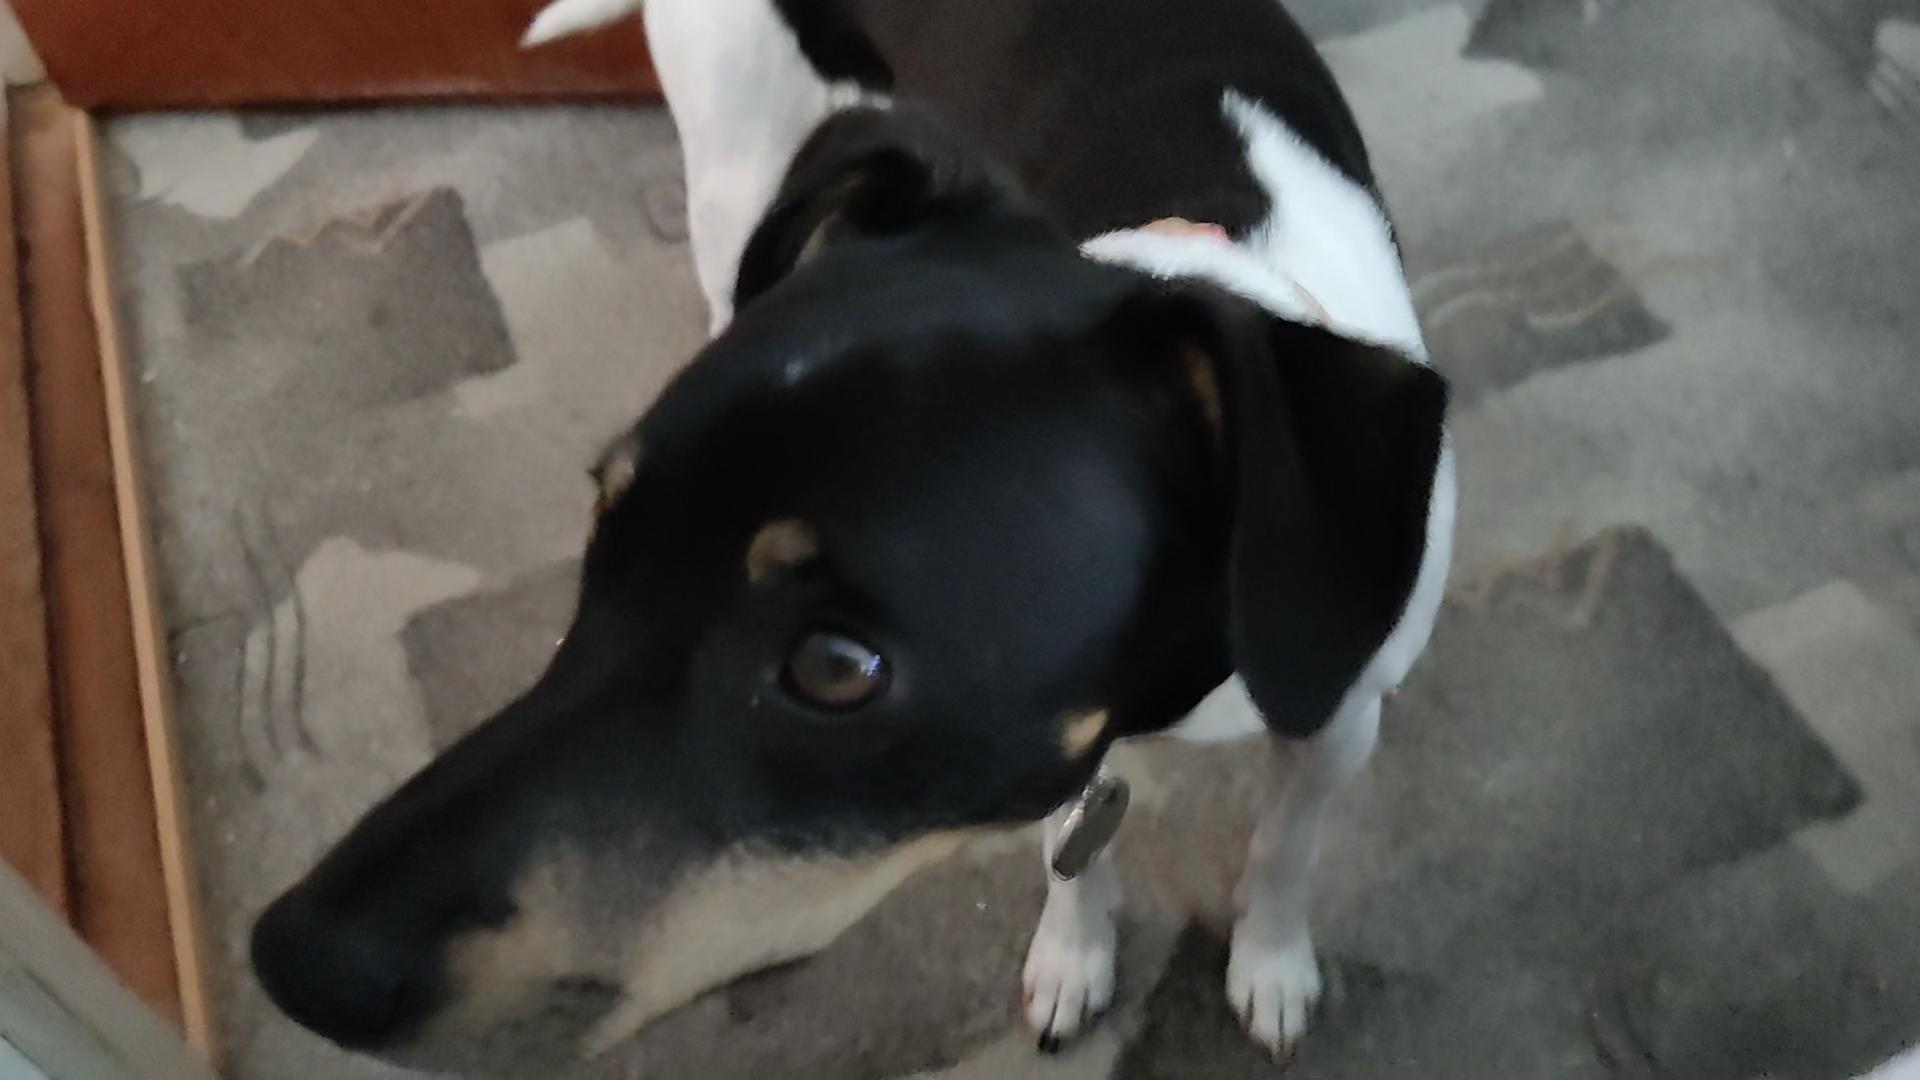Dog: (235, 0, 1468, 1080)
